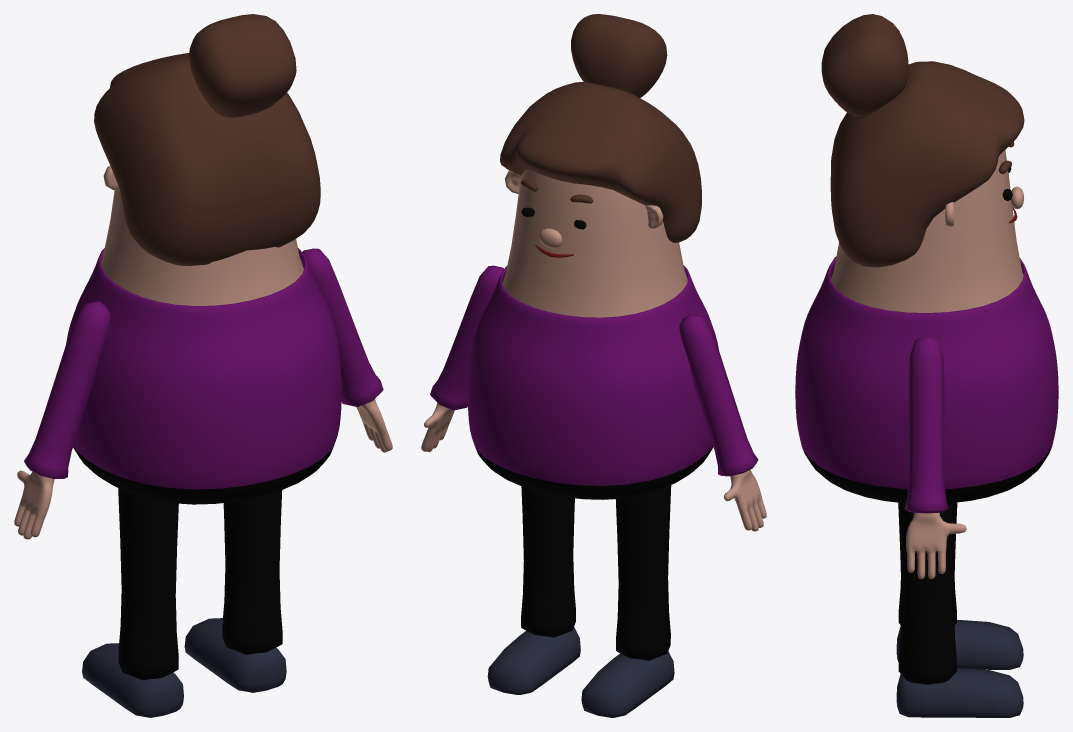
The model's file is Customer4.fbx.
3 views of the same model, side by side, from view 1: azimuth 30°, elevation 25°; view 2: azimuth 150°, elevation 25°; view 3: azimuth 270°, elevation 25° (orthographic). The views are drawn at different scales.
Parts seen in each view (by area): view 1: Customer_4; view 2: Customer_4; view 3: Customer_4.
Part boxes in pixels (x1=…): Customer_4: x1=14, y1=14, x2=392, y2=717; Customer_4: x1=421, y1=14, x2=766, y2=717; Customer_4: x1=795, y1=14, x2=1058, y2=717.
Bounding box in the file's own units: 253 × 164 × 458.
